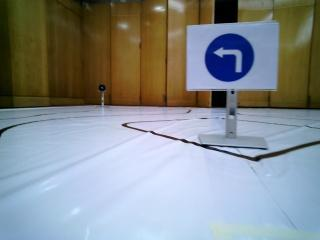left: (193, 28, 268, 83)
